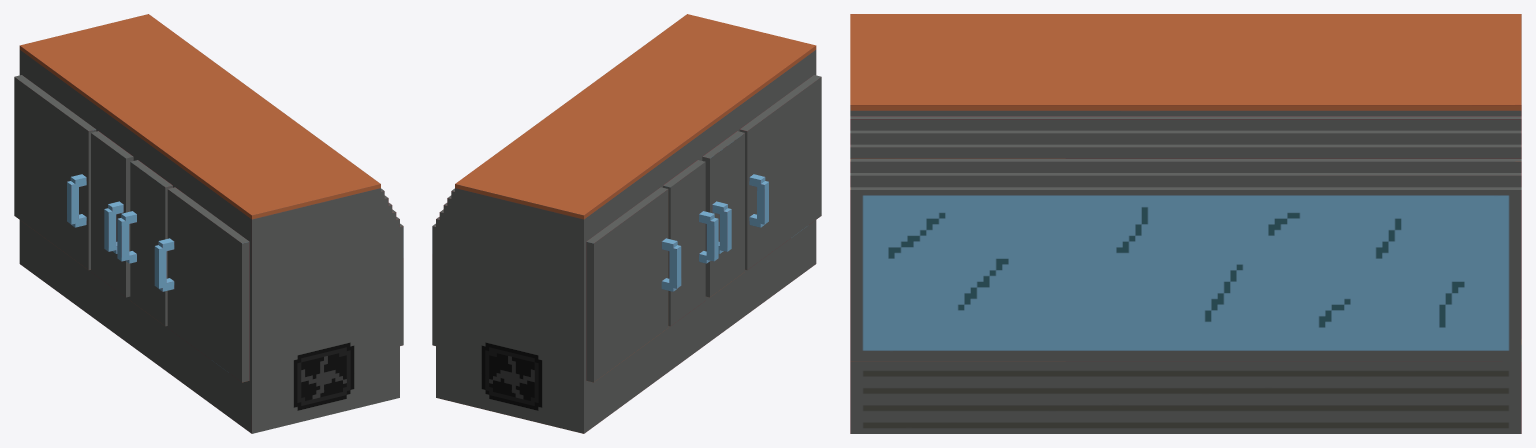
The model's file is Escenario 3 chocorramosurvivor-0.obj.
The picture shows the model from 3 angles, left to right: view 1: azimuth 30°, elevation 25°; view 2: azimuth 150°, elevation 25°; view 3: azimuth 270°, elevation 25°; orthographic projection. The views are drawn at different scales.
Parts seen in each view (by area): view 1: Escenario_3_chocorramosurvivor-0; view 2: Escenario_3_chocorramosurvivor-0; view 3: Escenario_3_chocorramosurvivor-0.
Part boxes in pixels (left/top/right/bottom): Escenario_3_chocorramosurvivor-0: left=14, top=14, right=403, bottom=433; Escenario_3_chocorramosurvivor-0: left=432, top=14, right=821, bottom=433; Escenario_3_chocorramosurvivor-0: left=850, top=14, right=1521, bottom=433.
Bounding box in the file's own units: 4.6 × 5.5 × 10.6.
Materials: 1 (1 with a texture image).
